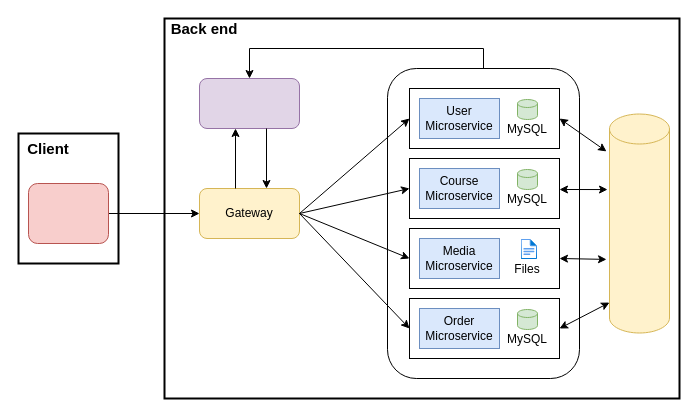
This 697x416 diagram has some shape labels left out. Here are the shapes that lost their labels. From the top down, the centre of each, then its label:
pixel 249 103: Service Discovery
pixel 68 213: Elearning Platform WebApp
pixel 639 223: Event Bus RabbitMQ ó Kafka
